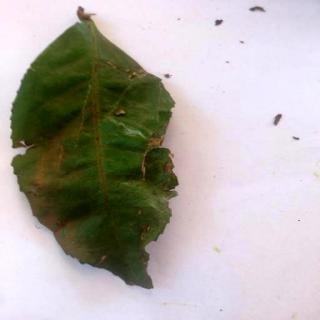Brown Blight: (12, 7, 179, 291)
